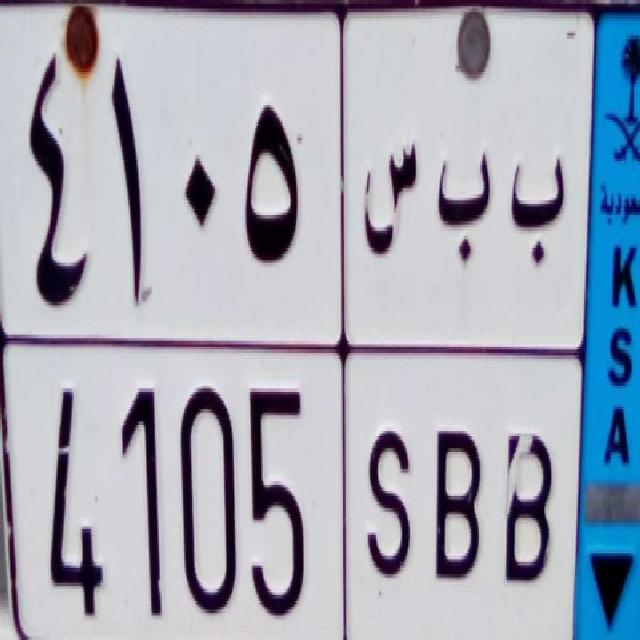license_plate: (2, 336, 578, 640)
